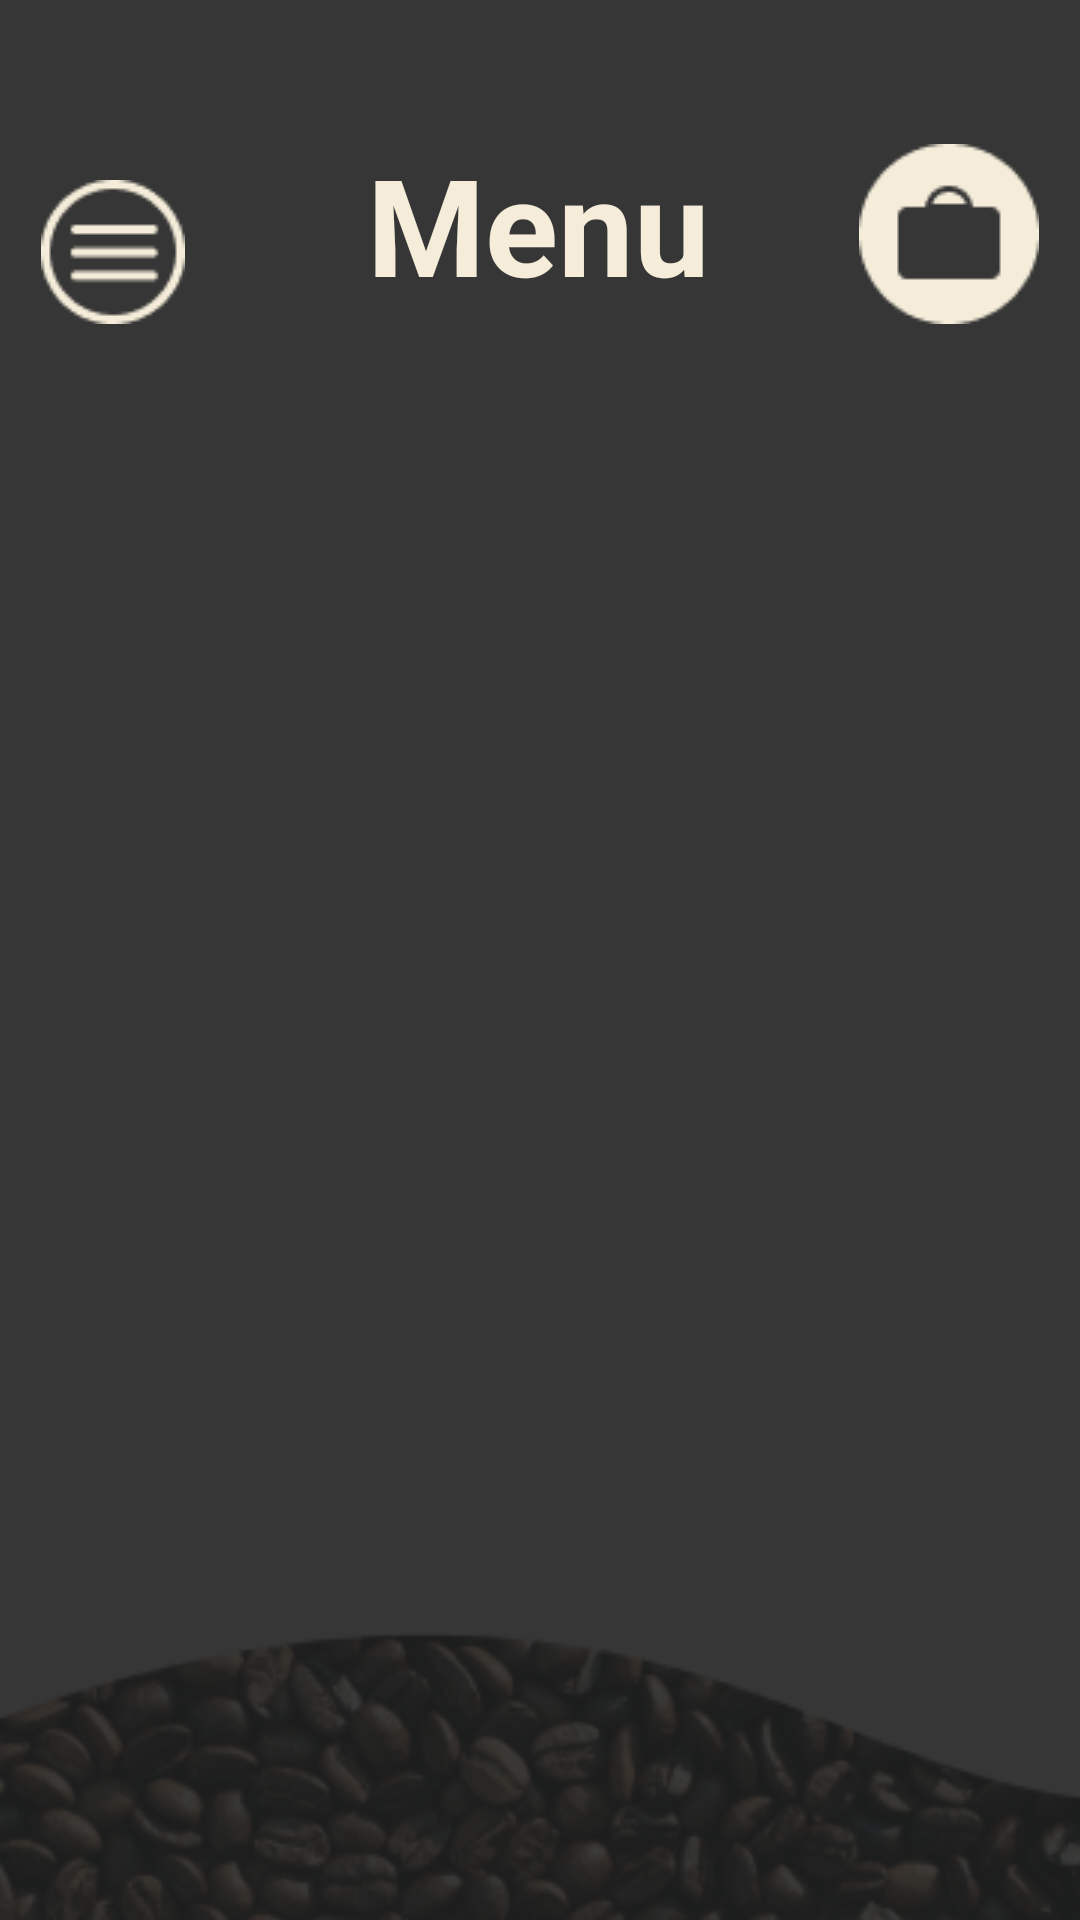

Screen size 1080*1920. Icon name, then its box in pixels as bbox=(x1, y1, x2, y2):
order: bbox=(859, 144, 1039, 324)
